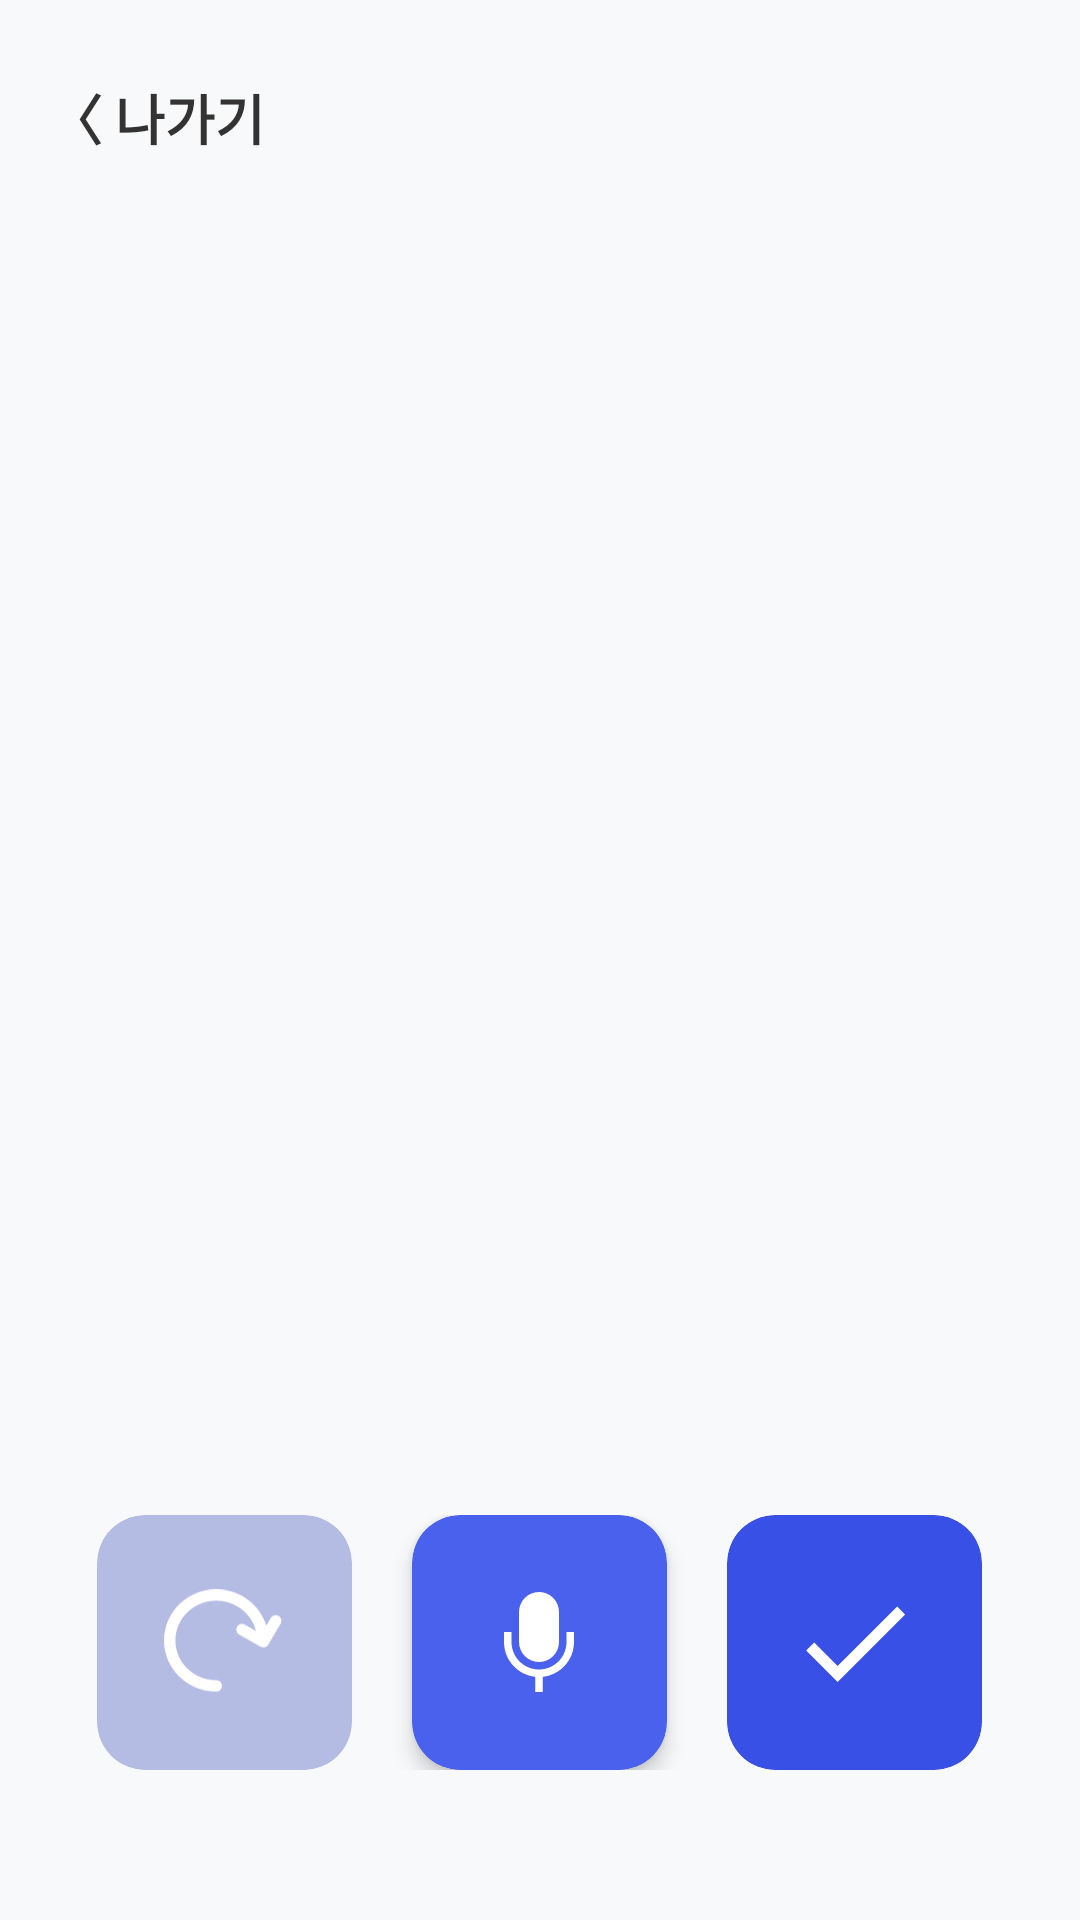

Screen size 1080×1920. Icon name, then its center in pixels as (x,y):
check: (855,1644)
mic: (539,1642)
replay: (223,1640)
